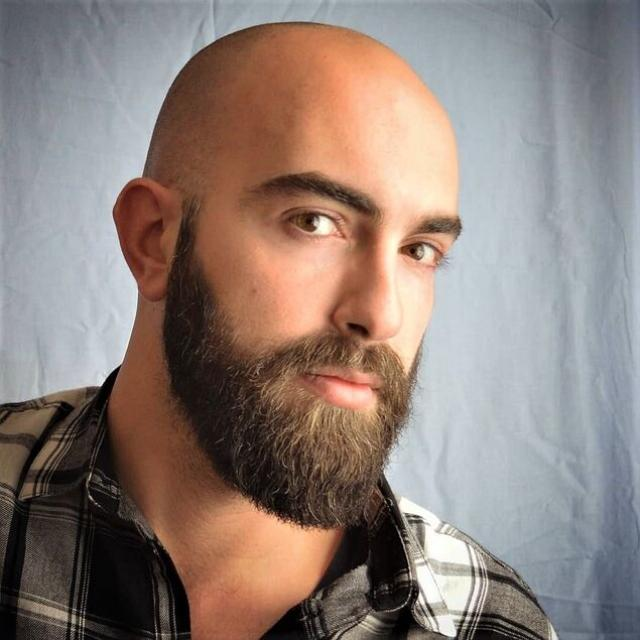Nonhelmet: (112, 20, 466, 532)
